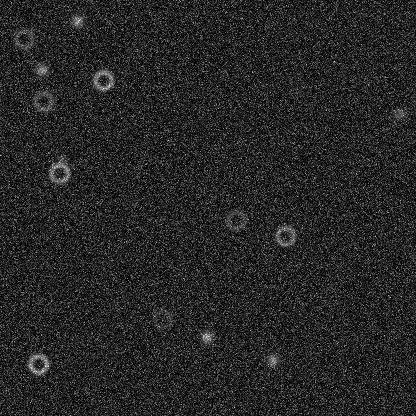Ring: (26, 351, 50, 375), (273, 224, 297, 248), (12, 26, 36, 50), (150, 306, 174, 330), (91, 68, 115, 92), (47, 161, 71, 185), (224, 207, 248, 231), (31, 89, 55, 113)
Spot: (264, 352, 280, 368), (33, 62, 49, 78), (53, 151, 69, 167), (198, 329, 214, 345), (391, 106, 407, 122), (69, 12, 85, 28)
